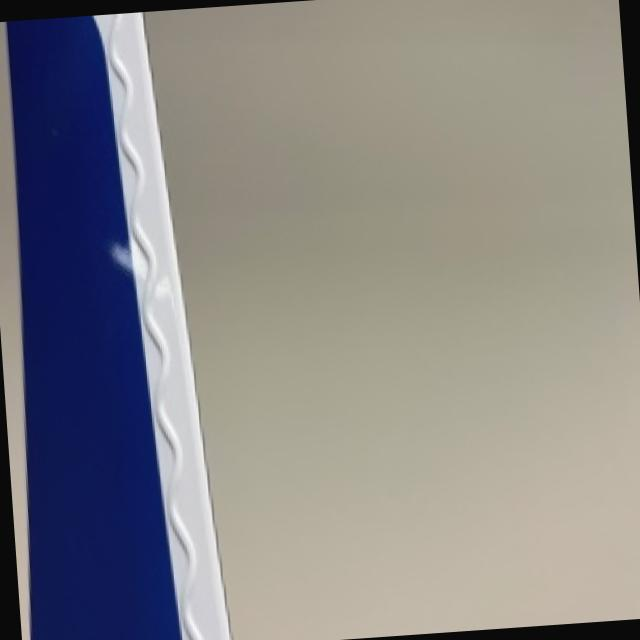healthy: (4, 12, 227, 640)
